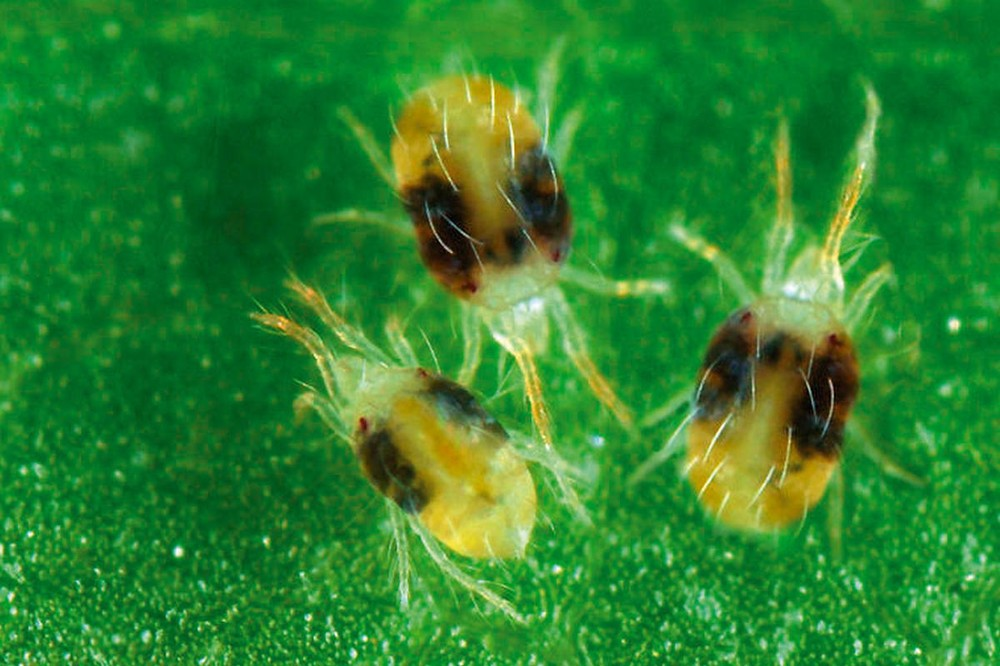Aracnido Rojo: (324, 52, 653, 467), (656, 95, 923, 564), (268, 286, 571, 606)
